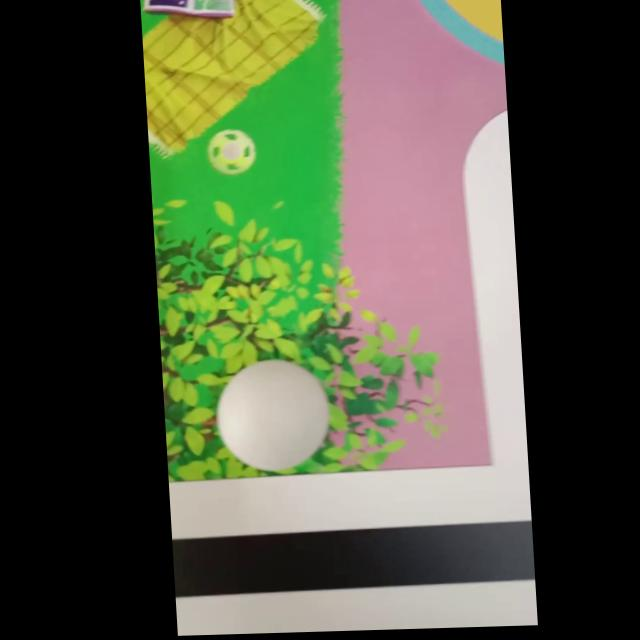white ball: (212, 356, 332, 473)
